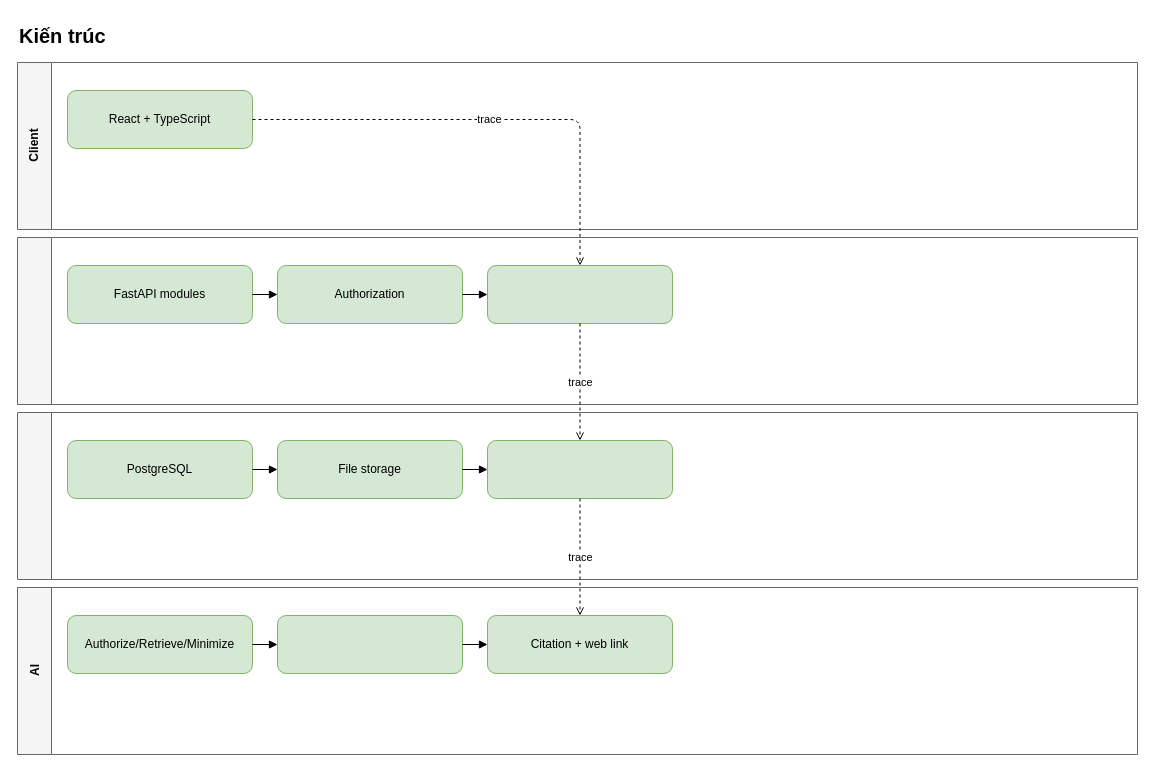
The diagram is 1155 pixels wide and 772 high, and some of its shapes have lost their labels. Here are the shapes that lost their labels. From the top down, the box of each, then its label:
(486, 264, 672, 324): Worker/Outbox
(16, 236, 1138, 404): Backend
(486, 440, 672, 498): Qdrant
(16, 412, 1138, 580): Nguồn dữ liệu
(276, 614, 462, 674): Gemini backend-only
